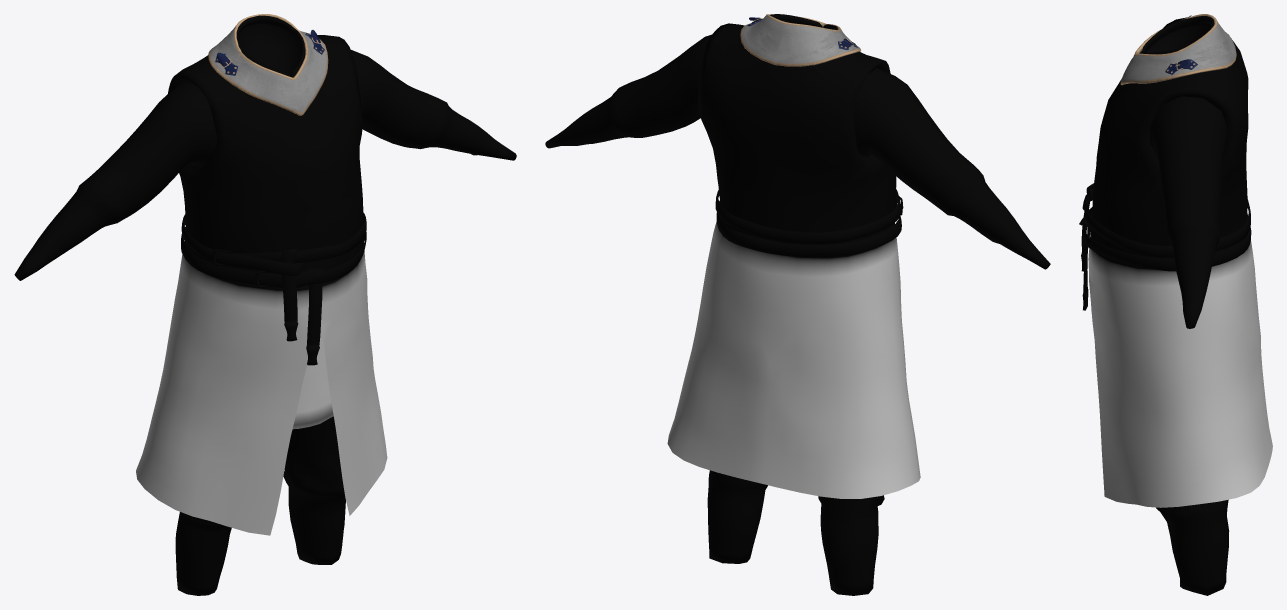
Rendered from swan_knight_armor_tabard2_t2_slim.fbx.
The picture shows the model from 3 angles, left to right: view 1: azimuth 30°, elevation 25°; view 2: azimuth 150°, elevation 25°; view 3: azimuth 270°, elevation 25°; orthographic projection. The views are drawn at different scales.
Parts seen in each view (by area): view 1: swan_knight_armor_tabard2_t2_slim.0, swan_knight_armor_tabard2_t2_slim.1; view 2: swan_knight_armor_tabard2_t2_slim.0, swan_knight_armor_tabard2_t2_slim.1; view 3: swan_knight_armor_tabard2_t2_slim.0, swan_knight_armor_tabard2_t2_slim.1.
Boxes of the visible parts, <box> form: swan_knight_armor_tabard2_t2_slim.0: <box>14,15,516,595</box>; swan_knight_armor_tabard2_t2_slim.1: <box>208,14,328,115</box>; swan_knight_armor_tabard2_t2_slim.0: <box>545,14,1050,595</box>; swan_knight_armor_tabard2_t2_slim.1: <box>740,14,860,66</box>; swan_knight_armor_tabard2_t2_slim.0: <box>1079,16,1272,595</box>; swan_knight_armor_tabard2_t2_slim.1: <box>1120,14,1236,85</box>.
Size of the model in its own units: 1.3 by 0.4478 by 1.37.
